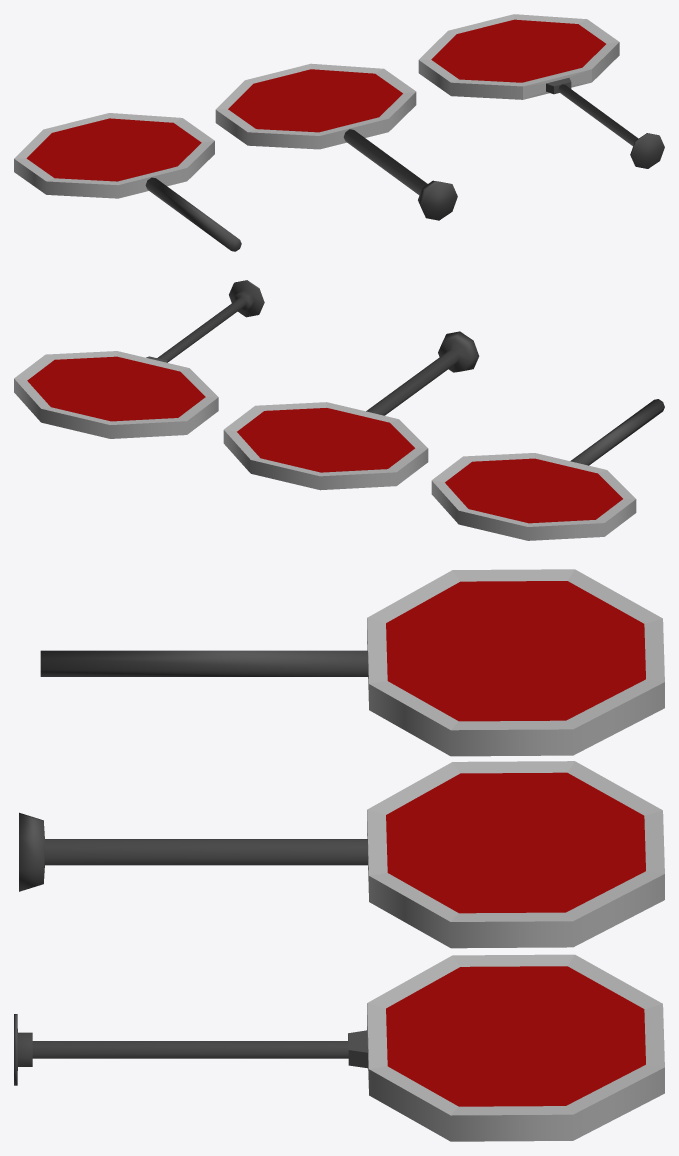
The model's file is stop sign.FBX.
3 renders of one model, top to bottom at view 1: azimuth 30°, elevation 25°; view 2: azimuth 150°, elevation 25°; view 3: azimuth 270°, elevation 25°, orthographic. The views are drawn at different scales.
Visible parts, largest first — view 1: Cylinder005, Cylinder006, Cylinder004; view 2: Cylinder005, Cylinder006, Cylinder004; view 3: Cylinder005, Cylinder004, Cylinder006.
Part boxes in pixels (bbox=[...]): Cylinder005: bbox=[215, 63, 457, 220]; Cylinder006: bbox=[418, 14, 664, 168]; Cylinder004: bbox=[14, 113, 241, 251]; Cylinder005: bbox=[223, 331, 479, 490]; Cylinder006: bbox=[14, 280, 264, 438]; Cylinder004: bbox=[431, 399, 664, 540]; Cylinder005: bbox=[19, 761, 664, 948]; Cylinder004: bbox=[40, 569, 664, 756]; Cylinder006: bbox=[14, 954, 664, 1141].
Bounding box in the file's own units: 183 × 11.94 × 92.17.
